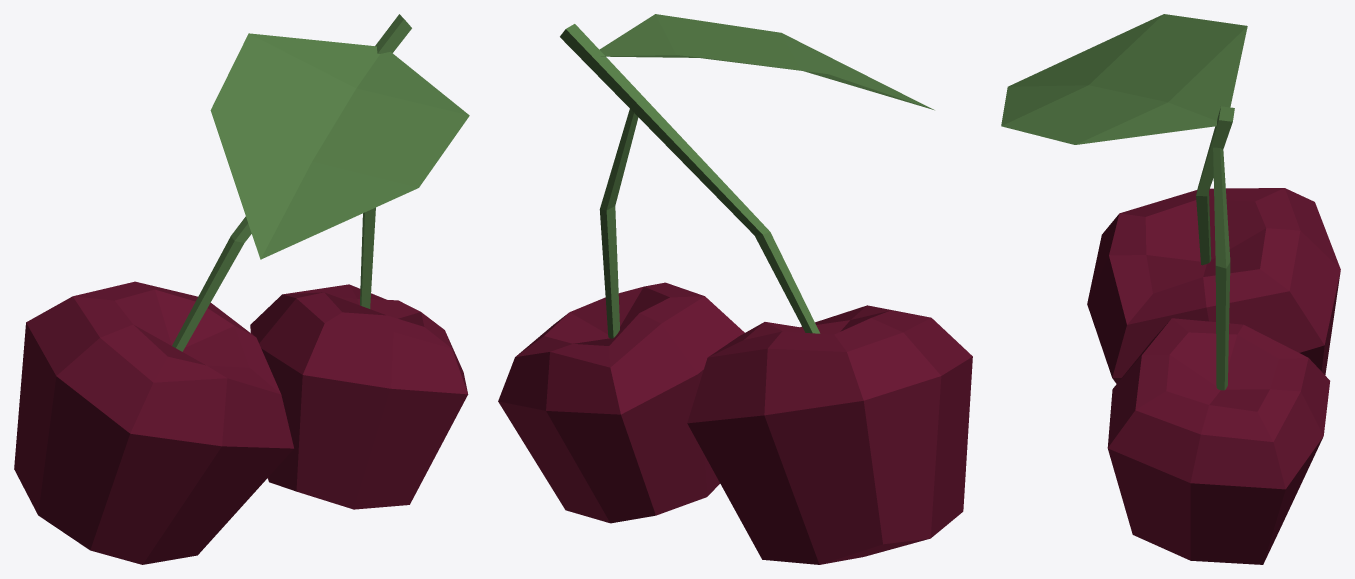
The model's file is cherryPair.fbx.
The picture shows the model from 3 angles, left to right: view 1: azimuth 30°, elevation 25°; view 2: azimuth 150°, elevation 25°; view 3: azimuth 270°, elevation 25°; orthographic projection.
Parts seen in each view (by area): view 1: cherryPair; view 2: cherryPair; view 3: cherryPair.
Boxes of the visible parts, x1,y1,x2,y2 form: cherryPair: (14,14,469,564); cherryPair: (498,14,972,564); cherryPair: (1001,14,1340,564).
Bounding box in the file's own units: 5.7 × 6.39 × 4.14.
Materials: 1 (1 with a texture image).
